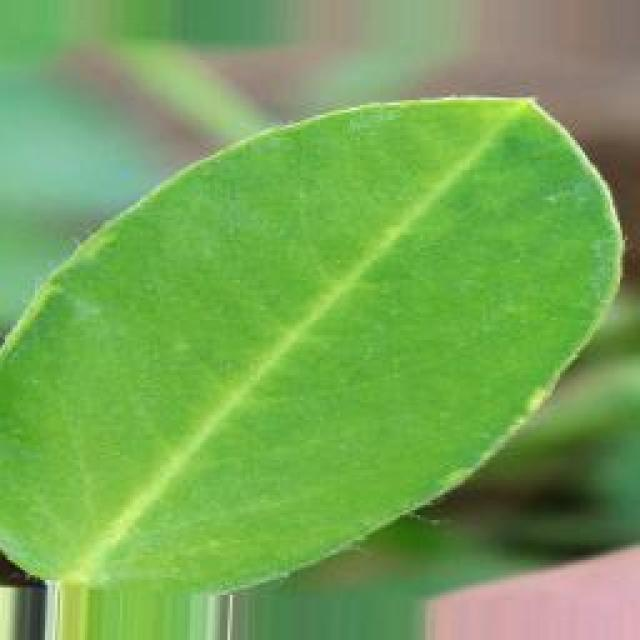Yellow_and_black_sigatoka: (0, 93, 628, 610)
